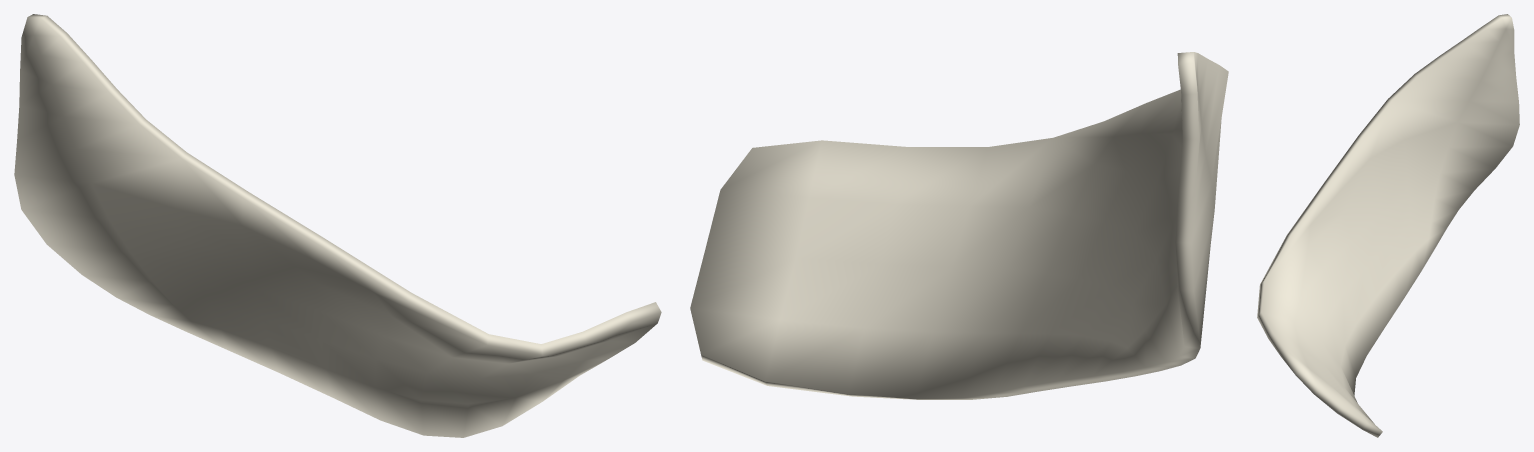
The picture shows the model from 3 angles, left to right: view 1: azimuth 30°, elevation 25°; view 2: azimuth 150°, elevation 25°; view 3: azimuth 270°, elevation 25°; orthographic projection. The views are drawn at different scales.
Visible parts, largest first — view 1: ZA_363848940c762e5b; view 2: ZA_363848940c762e5b; view 3: ZA_363848940c762e5b.
Part boxes in pixels (x1,y1,x2,y2): ZA_363848940c762e5b: (14,14,661,437); ZA_363848940c762e5b: (690,52,1228,399); ZA_363848940c762e5b: (1257,14,1519,437).
Size of the model in its own units: 0.0239 by 0.0192 by 0.0161.
